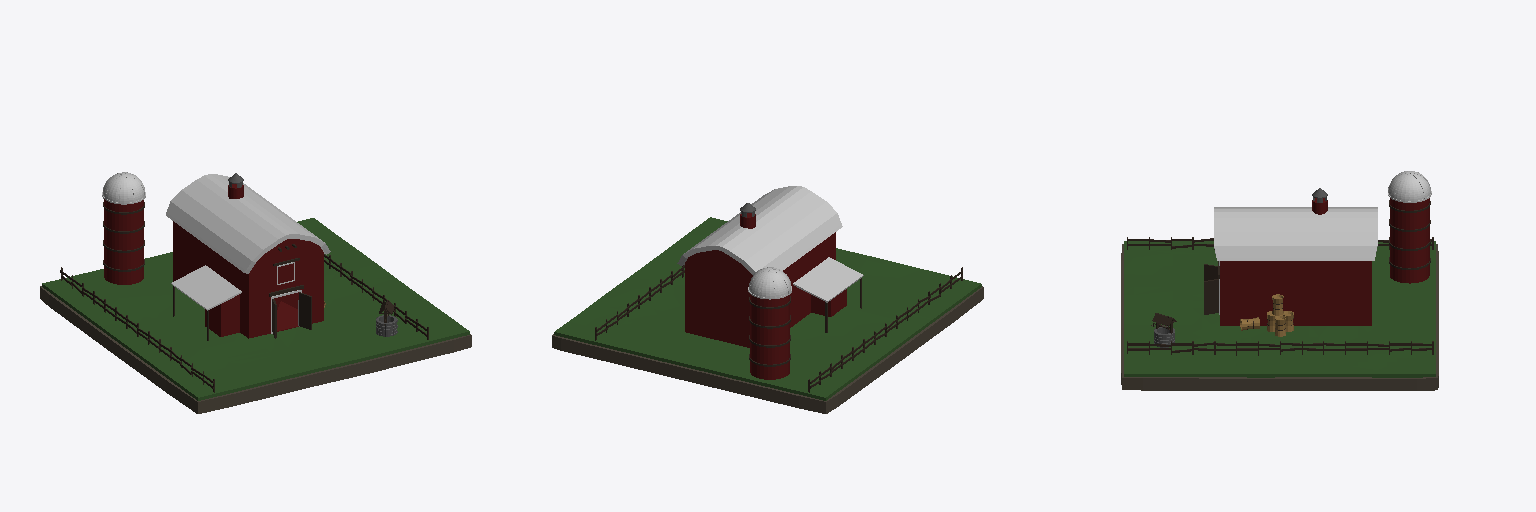
The model's file is Barn.obj.
The picture shows the model from 3 angles: view 1: azimuth 30°, elevation 25°; view 2: azimuth 150°, elevation 25°; view 3: azimuth 270°, elevation 25°; orthographic projection.
Parts seen in each view (by area): view 1: pPlane1, pCube5, pCylinder11, pCube16, pCube21, pSphere1, pPipe6; view 2: pPlane1, pCube5, pCylinder11, pCube16, pSphere1, pCube21; view 3: pPlane1, pCube5, pCylinder11, pSphere1, pPipe6.
Boxes of the visible parts, <box> form: pPlane1: <box>40,218,471,413</box>; pCube5: <box>166,174,330,338</box>; pCylinder11: <box>104,199,143,284</box>; pCube16: <box>171,265,241,310</box>; pCube21: <box>205,294,239,336</box>; pSphere1: <box>102,172,145,204</box>; pPipe6: <box>376,300,397,336</box>; pPlane1: <box>552,217,983,413</box>; pCube5: <box>677,186,842,347</box>; pCylinder11: <box>750,294,789,379</box>; pCube16: <box>793,257,863,302</box>; pSphere1: <box>748,267,791,299</box>; pCube21: <box>811,289,846,316</box>; pPlane1: <box>1121,241,1438,390</box>; pCube5: <box>1214,207,1377,325</box>; pCylinder11: <box>1390,198,1429,283</box>; pSphere1: <box>1388,171,1431,202</box>; pPipe6: <box>1151,313,1176,347</box>.
Size of the model in its own units: 22.93 by 10.72 by 22.84.